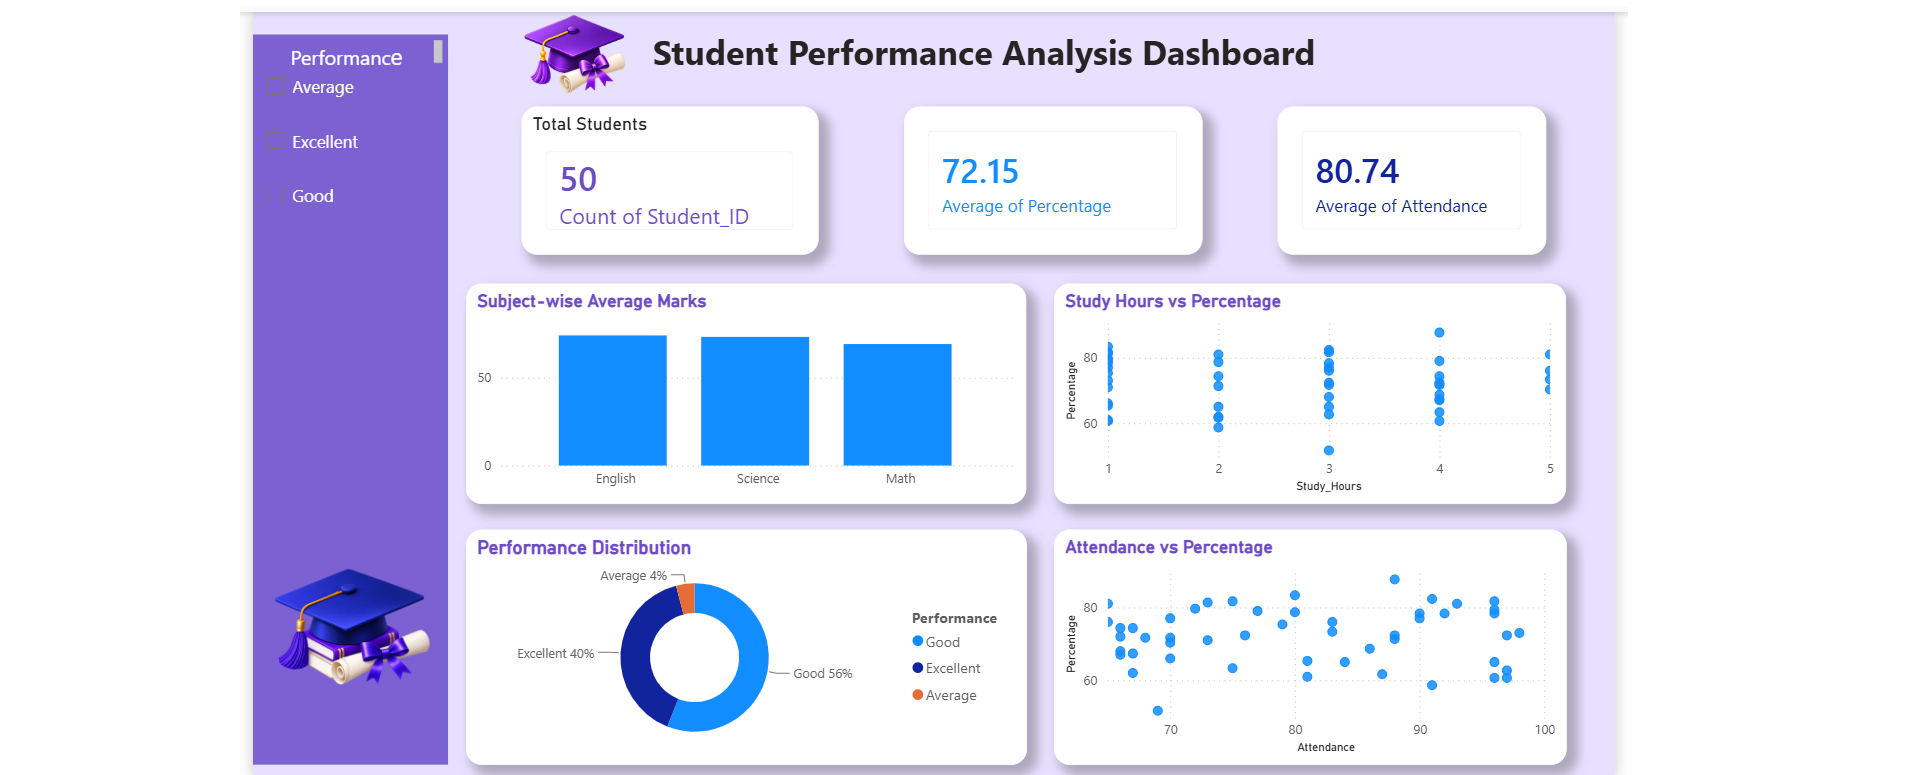

Layout of this report page (visuals, bound fields, positions):
{"tool":"powerbi","page":{"name":"Page 1","canvas":[1280,720],"ordinal":0},"visuals":[{"type":"cardVisual","title":"Total Students","fields":{"Data":["CountNonNull(Sheet1.Student_ID)"]},"box":[252.4,88.8,279.2,139.6],"z":0},{"type":"cardVisual","fields":{"Data":["Avg(Sheet1.Percentage)"]},"box":[611.9,88.8,280.6,139.6],"z":1000},{"type":"cardVisual","fields":{"Data":["Avg(Sheet1.Attendance)"]},"box":[963,88.8,252.4,139.6],"z":2000},{"type":"clusteredColumnChart","title":"Subject-wise Average Marks","fields":{"Category":["Subject_Marks.Attribute"],"Y":["Avg(Subject_Marks.Value)"]},"box":[199.9,255.9,526.9,207.4],"z":3000},{"type":"donutChart","title":" Performance Distribution","fields":{"Y":["CountNonNull(Sheet1.Performance)"],"Category":["Sheet1.Performance"]},"box":[200.2,486.4,527.3,221.4],"z":4000},{"type":"scatterChart","title":"Study Hours vs Percentage","fields":{"Y":["Sheet1.Percentage"],"X":["Sheet1.Study_Hours"]},"box":[752.6,255.9,481.5,207.4],"z":5000},{"type":"slicer","fields":{"Values":["Sheet1.Performance"]},"box":[0,39.5,183.3,668.3],"z":6000},{"type":"textbox","box":[370.8,9.9,664.1,59.2],"z":7000},{"type":"scatterChart","title":" Attendance vs Percentage","fields":{"X":["Sheet1.Attendance"],"Y":["Sheet1.Percentage"]},"box":[752.9,486.4,482.2,221.4],"z":8000},{"type":"image","box":[234.1,0,136.8,80.4],"z":9000},{"type":"textbox","box":[0,21.2,183.2,34.8],"z":10000},{"type":"image","box":[5.6,473.7,172,211.5],"z":11000}]}

Visuals, with their boxes in screenshot pixels (x1, y1, x2, y2):
"Total Students" cardVisual: [517, 104, 814, 253]
cardVisual - Avg(Sheet1.Percentage): [899, 104, 1198, 253]
cardVisual - Avg(Sheet1.Attendance): [1273, 104, 1541, 253]
"Subject-wise Average Marks" clusteredColumnChart: [461, 282, 1022, 503]
" Performance Distribution" donutChart: [462, 527, 1022, 763]
"Study Hours vs Percentage" scatterChart: [1049, 282, 1561, 503]
slicer - Sheet1.Performance: [249, 52, 444, 763]
textbox: [643, 20, 1349, 83]
" Attendance vs Percentage" scatterChart: [1049, 527, 1562, 763]
image: [498, 10, 643, 95]
textbox: [249, 32, 444, 69]
image: [255, 514, 438, 739]
